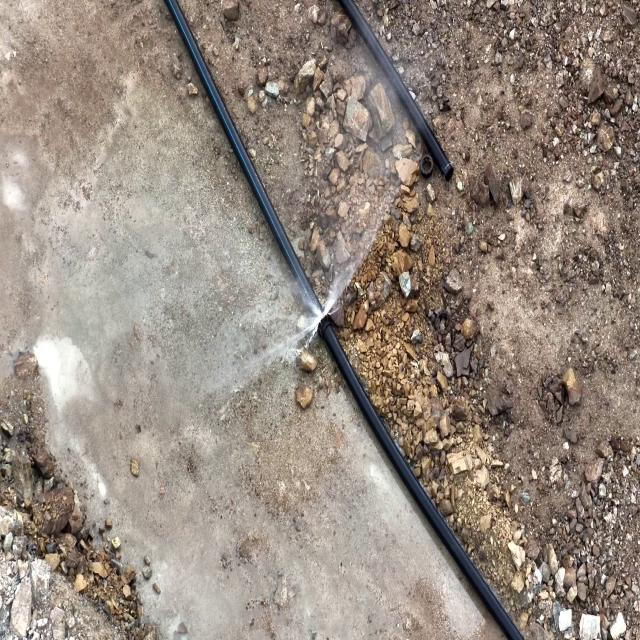leak: (249, 202, 402, 372)
